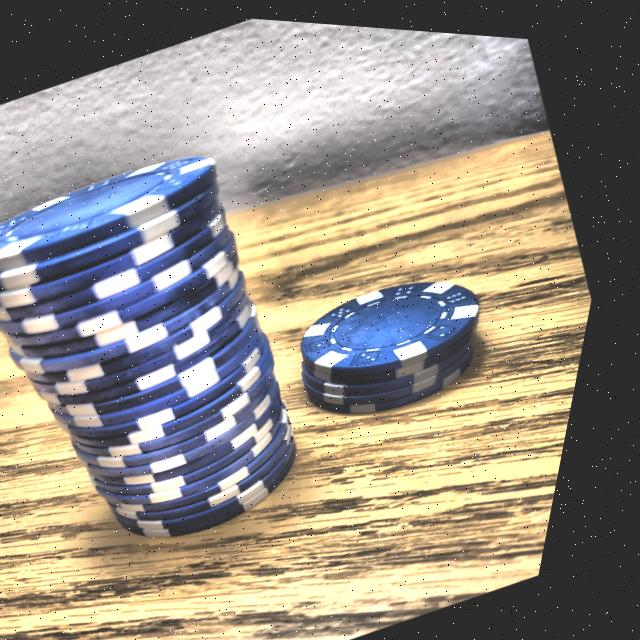Chip: (0, 86, 435, 636), (264, 213, 543, 451)
